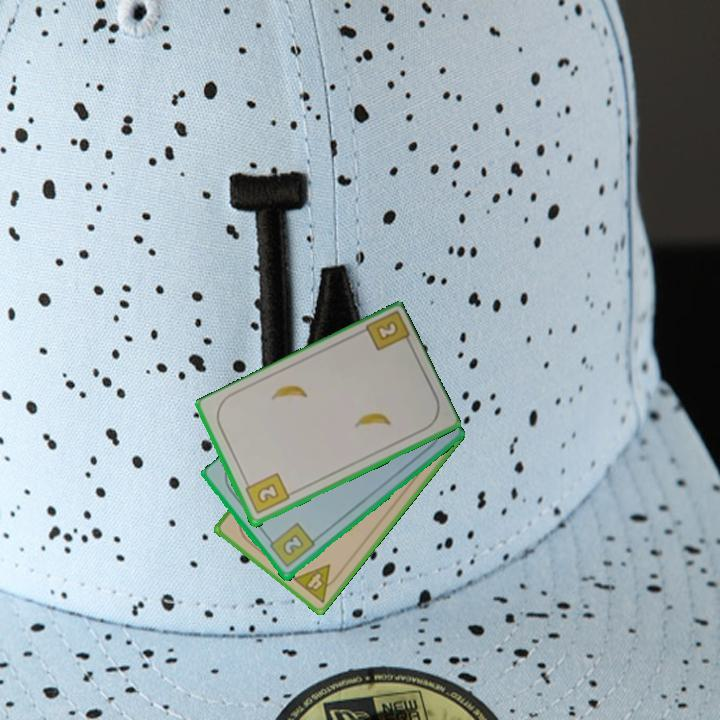2b: (264, 520, 318, 571), (241, 470, 292, 517), (372, 317, 401, 344)
4p: (289, 561, 344, 606)
